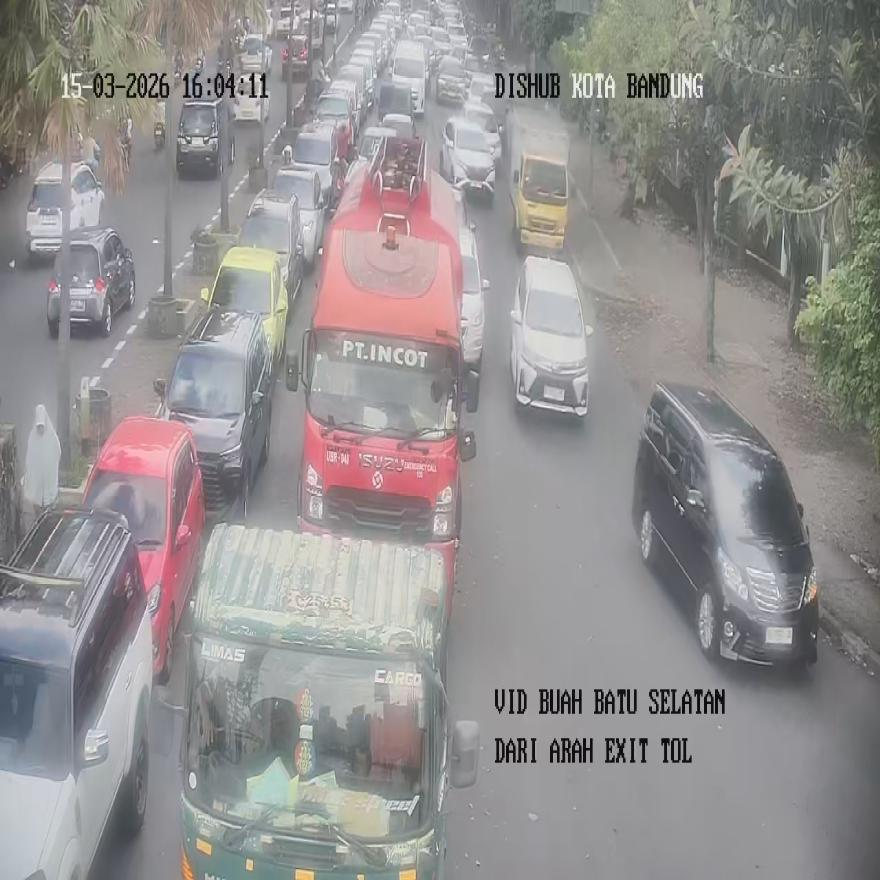Mobil: (0, 506, 154, 876), (631, 381, 820, 666), (80, 414, 205, 684), (154, 304, 273, 516), (510, 254, 592, 416), (200, 247, 288, 379), (47, 225, 135, 335), (24, 159, 103, 258), (236, 187, 302, 301), (175, 97, 234, 177)
Truk: (154, 524, 478, 876), (287, 137, 479, 579)
